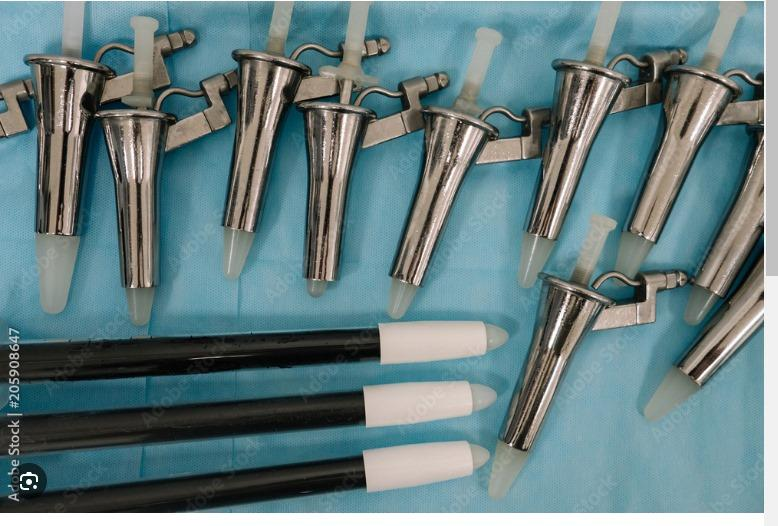Protoscope: (368, 16, 568, 321), (481, 212, 692, 500), (20, 5, 202, 312), (502, 7, 697, 290), (291, 13, 455, 298), (606, 3, 768, 281), (90, 13, 235, 318), (214, 20, 348, 283)
